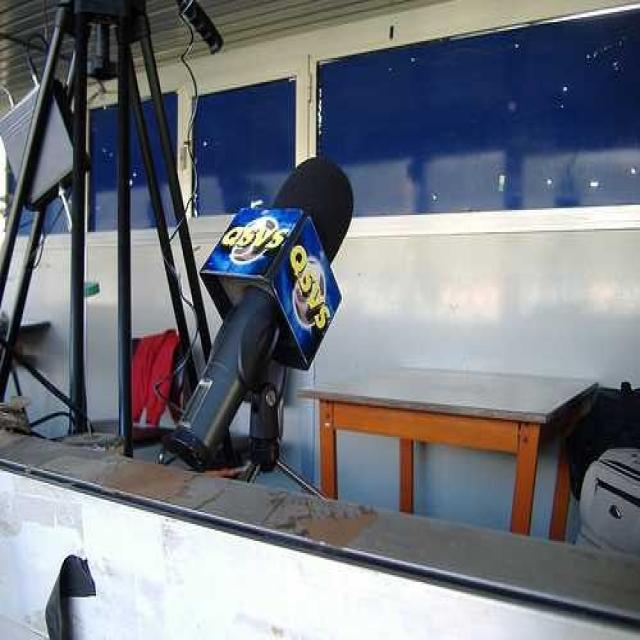microphone: (172, 154, 354, 467)
